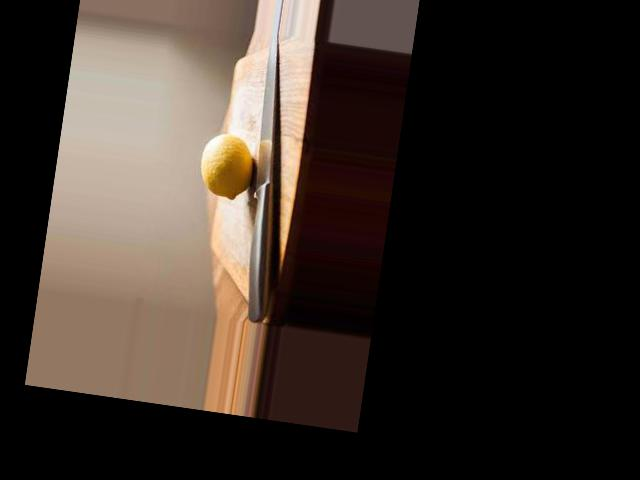lemon: (192, 122, 259, 206)
